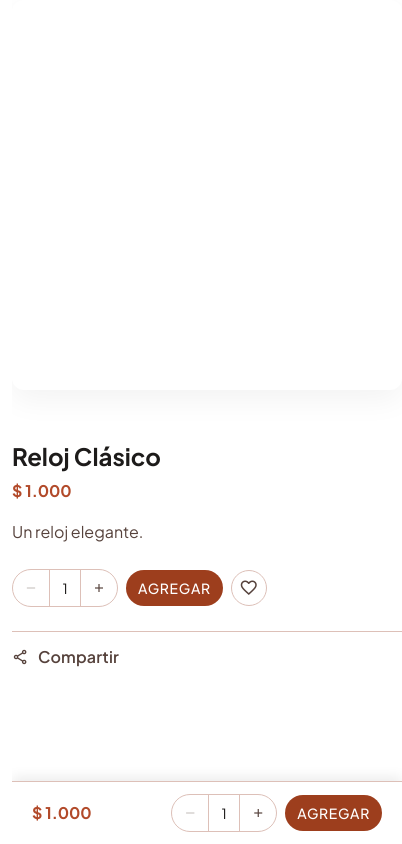
Test: FichaProducto — la cantidad es una sola entre las dos instancias del CTA › agregar desde la barra fija manda la cantidad elegida en el bloque de precio
The width and height of the screenshot is (402, 844).
Click the button named "aumentar" below "Un reloj elegante.". click: (99, 588)
box: x1=81 y1=570 x2=117 y2=606
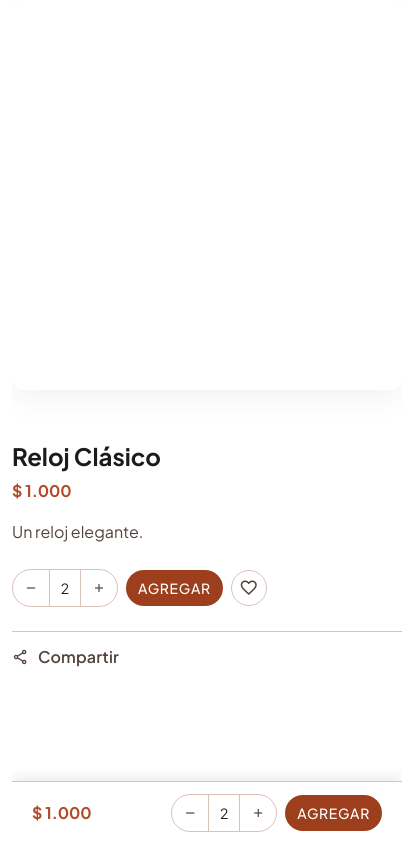
Click the 2nd button "Agregar". click: (334, 813)
box: x1=285 y1=795 x2=382 y2=831
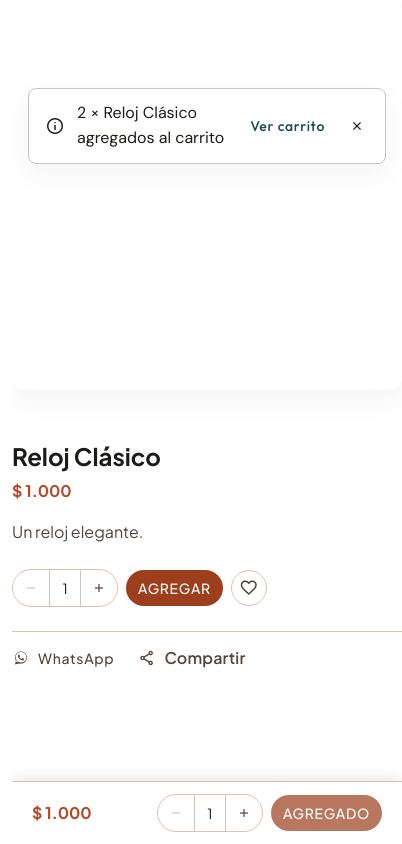
Expected: the 2nd text "1" is shown, x1=194 y1=795 x2=226 y2=831
